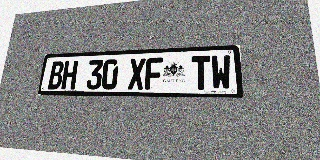0: (101, 59, 119, 89)
3: (86, 60, 103, 89)
B: (47, 61, 65, 89)
F: (145, 57, 163, 90)
H: (61, 61, 78, 89)
T: (192, 56, 211, 90)
W: (211, 55, 232, 90)
X: (128, 58, 146, 90)
